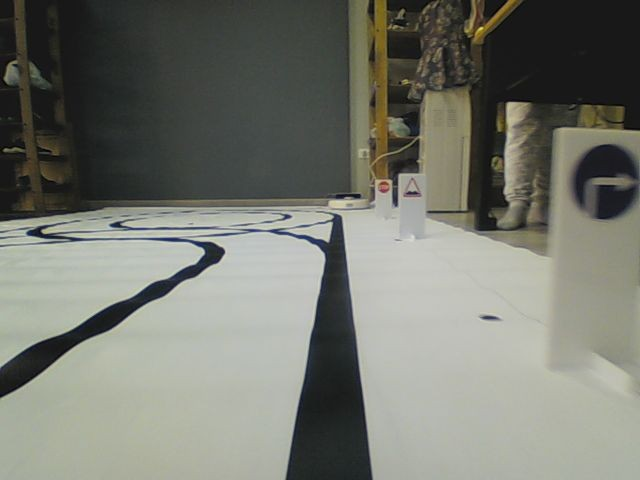Nerov: (403, 176, 422, 198)
Right: (569, 141, 640, 223)
